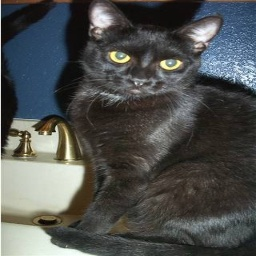cat: (41, 2, 255, 255)
